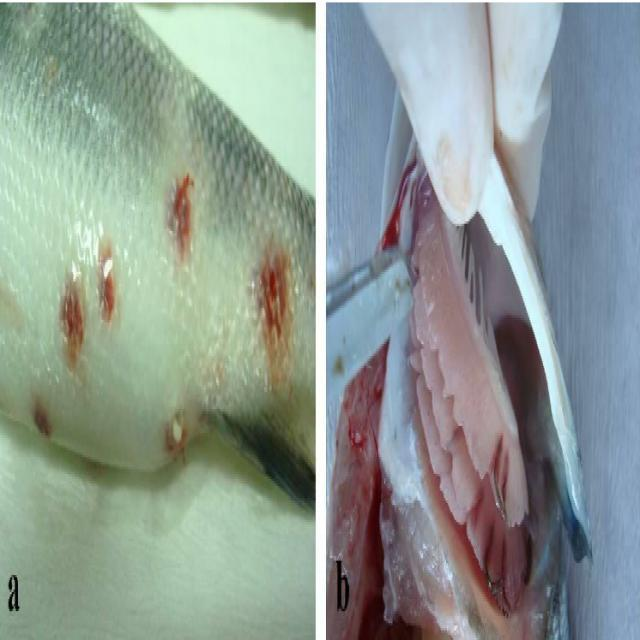EUS Disease: (2, 4, 314, 497), (326, 97, 599, 640), (21, 175, 304, 476)
